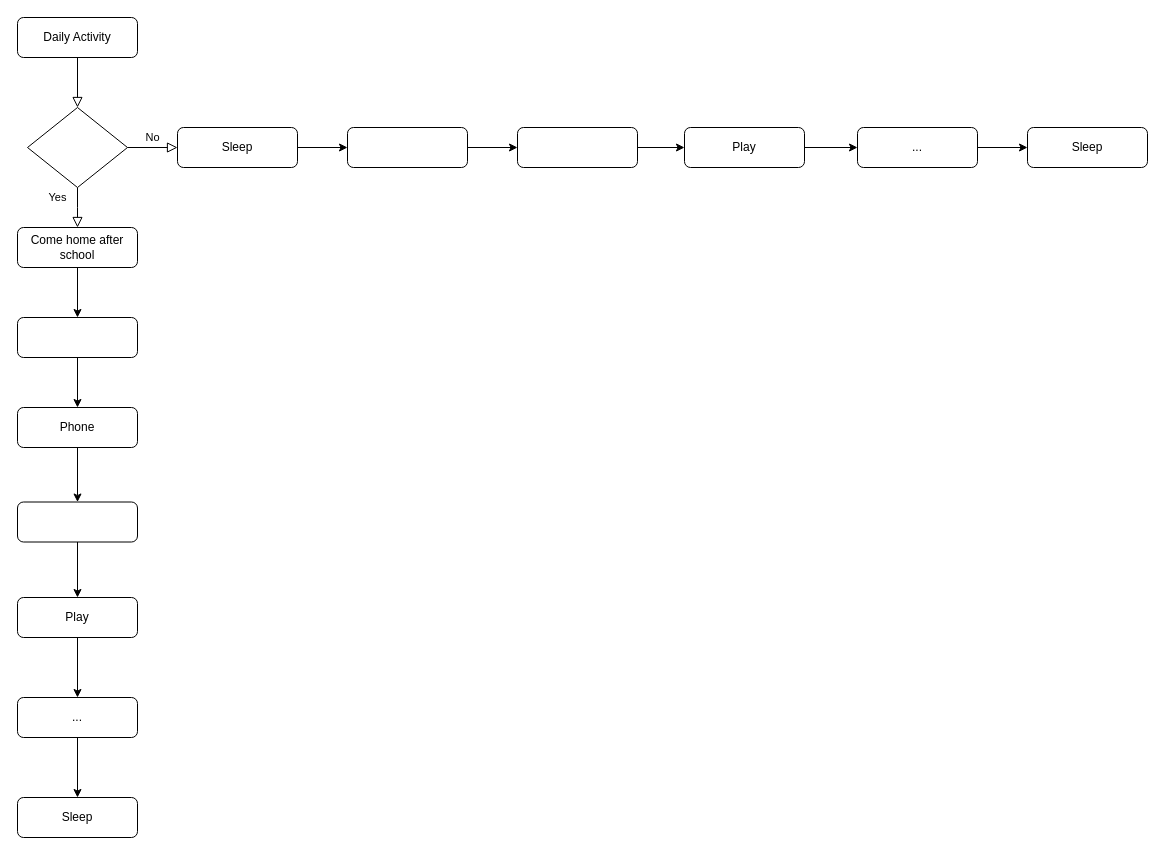
The diagram is 1165 pixels wide and 855 high, and some of its shapes have lost their labels. The centre of each missing label's shape, as x and y in pixels:
"Eat" goes at [577,147].
"Eat lunch" goes at [77,337].
"Gone to School" goes at [77,147].
"Homework" goes at [77,521].
"Wake up 9:00" goes at [407,147].
